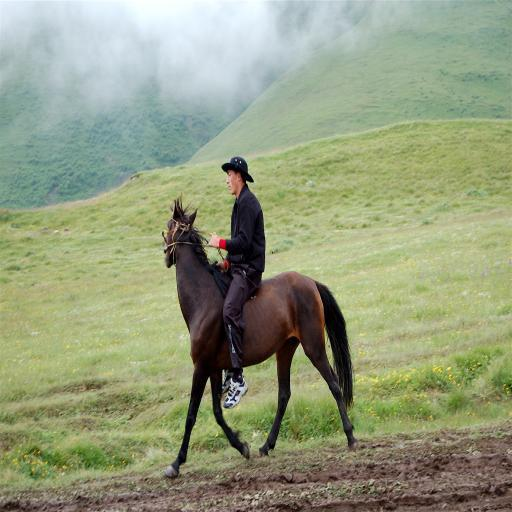horse: (162, 185, 356, 481)
